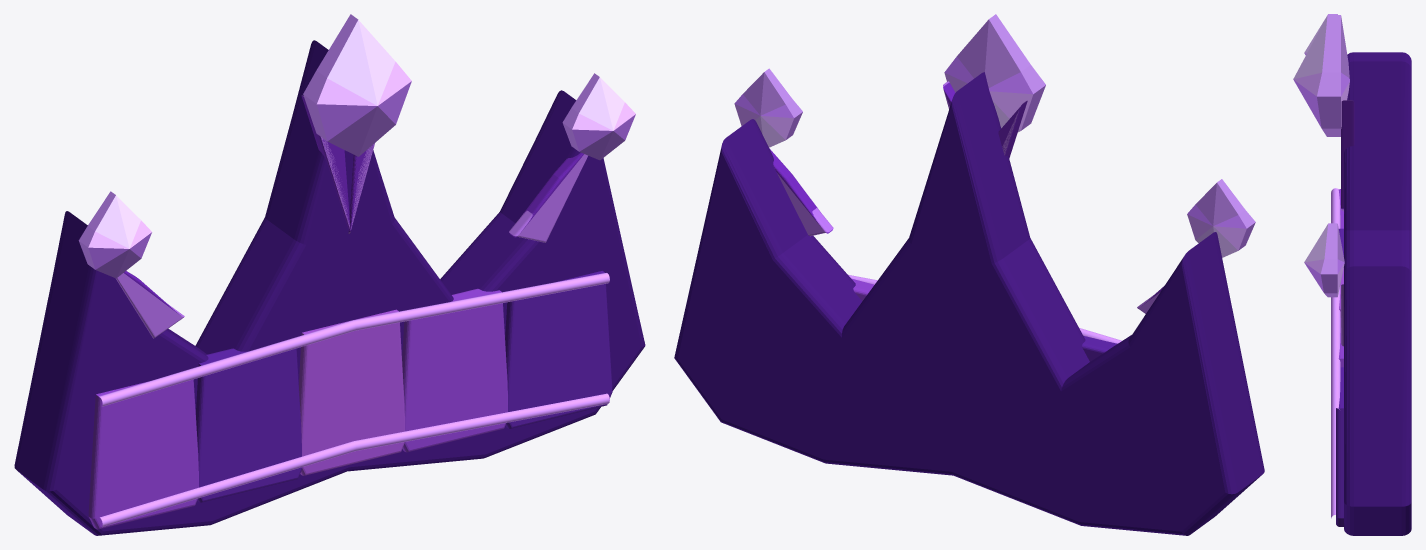
The model's file is crown-high.glb.
3 views of the same model, side by side, from view 1: azimuth 30°, elevation 25°; view 2: azimuth 150°, elevation 25°; view 3: azimuth 270°, elevation 25° (orthographic). The views are drawn at different scales.
Parts seen in each view (by area): view 1: Three-point crown shell, Segmented band plate 3, Segmented band plate 4, Segmented band plate 2, Segmented band plate 1, Segmented band plate 5, Center tip diamond, Band upper rail, Band lower rail, Right tip diamond, Left tip diamond, Tine facet 7 (+4 smaller); view 2: Three-point crown shell, Center tip diamond, Left tip diamond, Right tip diamond, Tine facet 7, Tine facet 8; view 3: Three-point crown shell, Center tip diamond, Right tip diamond, Band upper rail, Segmented band plate 5, Tine facet 6, Band lower rail, Tine facet 7.
Part boxes in pixels (box(x1,y1,x2,y2)): Three-point crown shell: box(14, 40, 645, 535); Segmented band plate 3: box(299, 309, 404, 475); Segmented band plate 4: box(402, 288, 507, 452); Segmented band plate 2: box(195, 348, 302, 502); Segmented band plate 1: box(88, 379, 198, 529); Segmented band plate 5: box(505, 271, 612, 428); Center tip diamond: box(303, 14, 411, 156); Band upper rail: box(99, 273, 609, 406); Band lower rail: box(100, 393, 609, 527); Right tip diamond: box(562, 73, 635, 160); Left tip diamond: box(78, 191, 151, 278); Tine facet 7: box(509, 154, 587, 242); Three-point crown shell: box(674, 72, 1264, 535); Center tip diamond: box(944, 14, 1045, 132); Left tip diamond: box(1187, 179, 1255, 257); Right tip diamond: box(734, 68, 802, 147); Tine facet 7: box(777, 173, 833, 236); Tine facet 8: box(769, 148, 832, 233); Three-point crown shell: box(1344, 52, 1411, 535); Center tip diamond: box(1293, 15, 1349, 136); Right tip diamond: box(1304, 223, 1344, 297); Band upper rail: box(1331, 188, 1340, 411); Segmented band plate 5: box(1336, 367, 1344, 526); Tine facet 6: box(1341, 100, 1354, 208); Band lower rail: box(1331, 408, 1335, 518); Tine facet 7: box(1341, 284, 1343, 346).
Size of the model in its own units: 1.54 by 1.18 by 0.2968.
